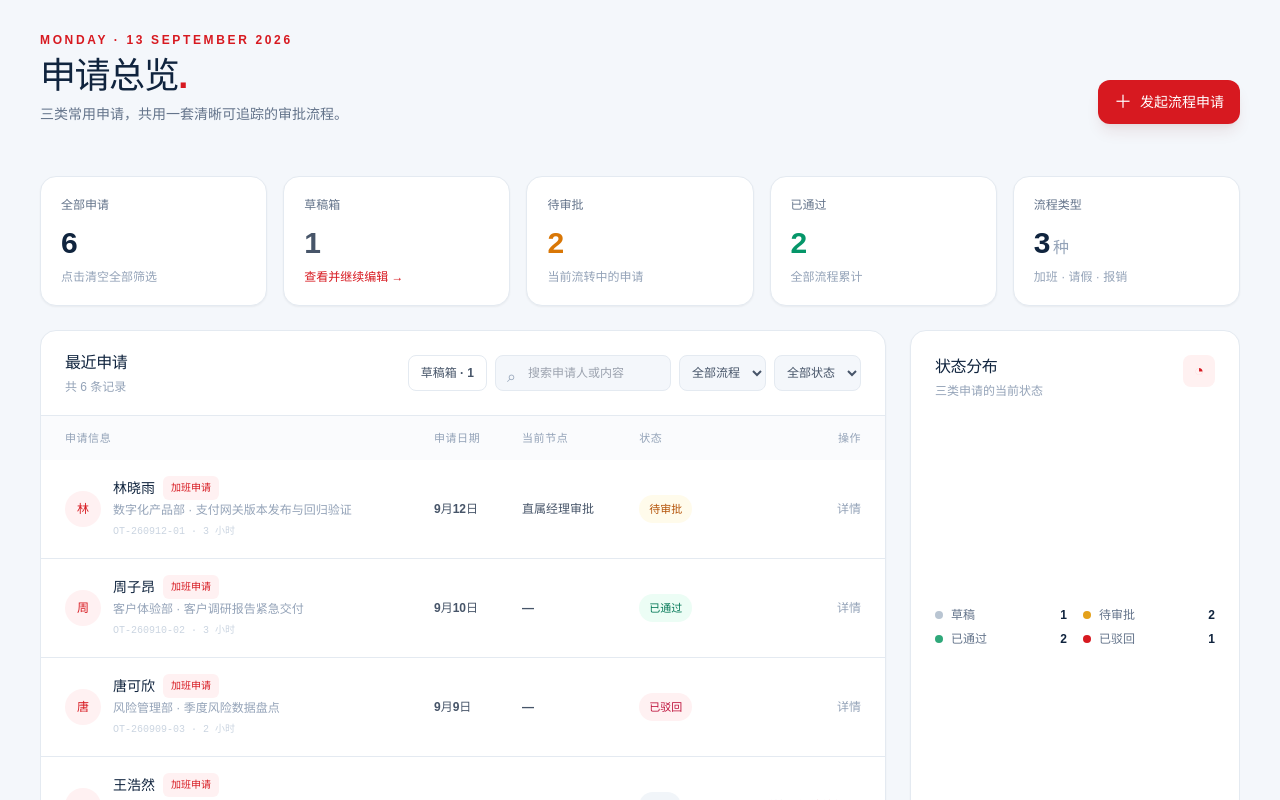
dashboard page › shows drafts and clears every filter from the total card
Click the button "草稿箱 1 查看并继续编辑 →": (397, 241) [283,176,510,306]
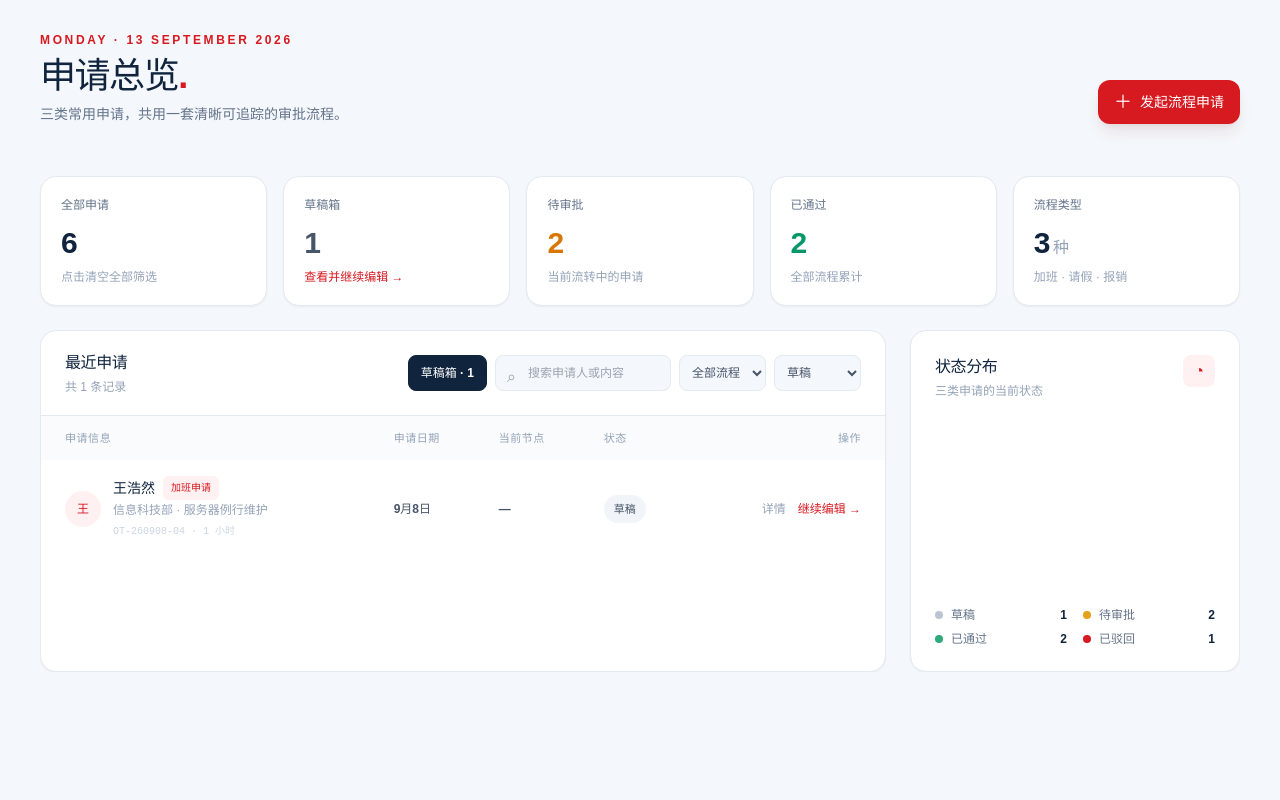
In the field with placeholder "搜索申请人或内容": (583, 373) [495,355,671,391], type "王浩然"
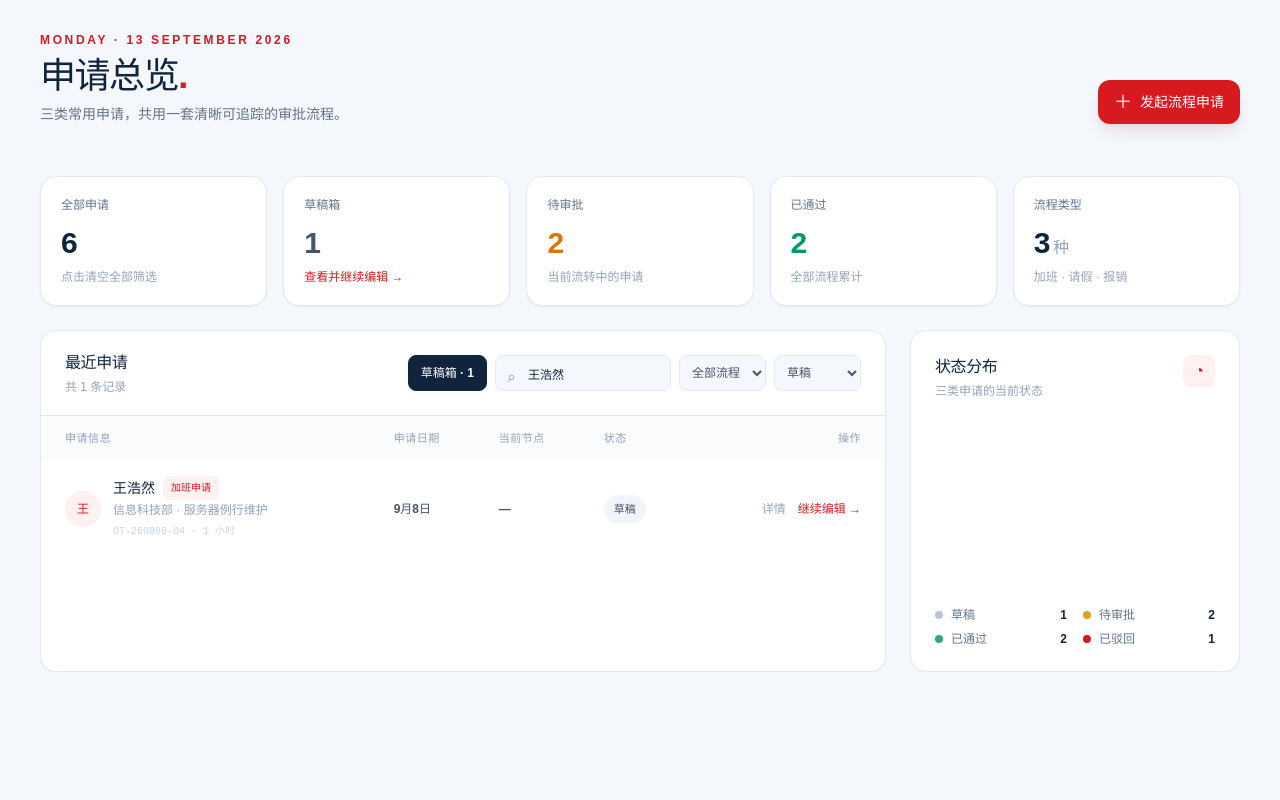
Now the text "共 1 条记录" is shown, box [65,379,127,395]
Click the button "全部申请 6 点击清空全部筛选": (154, 241) [40,176,267,306]
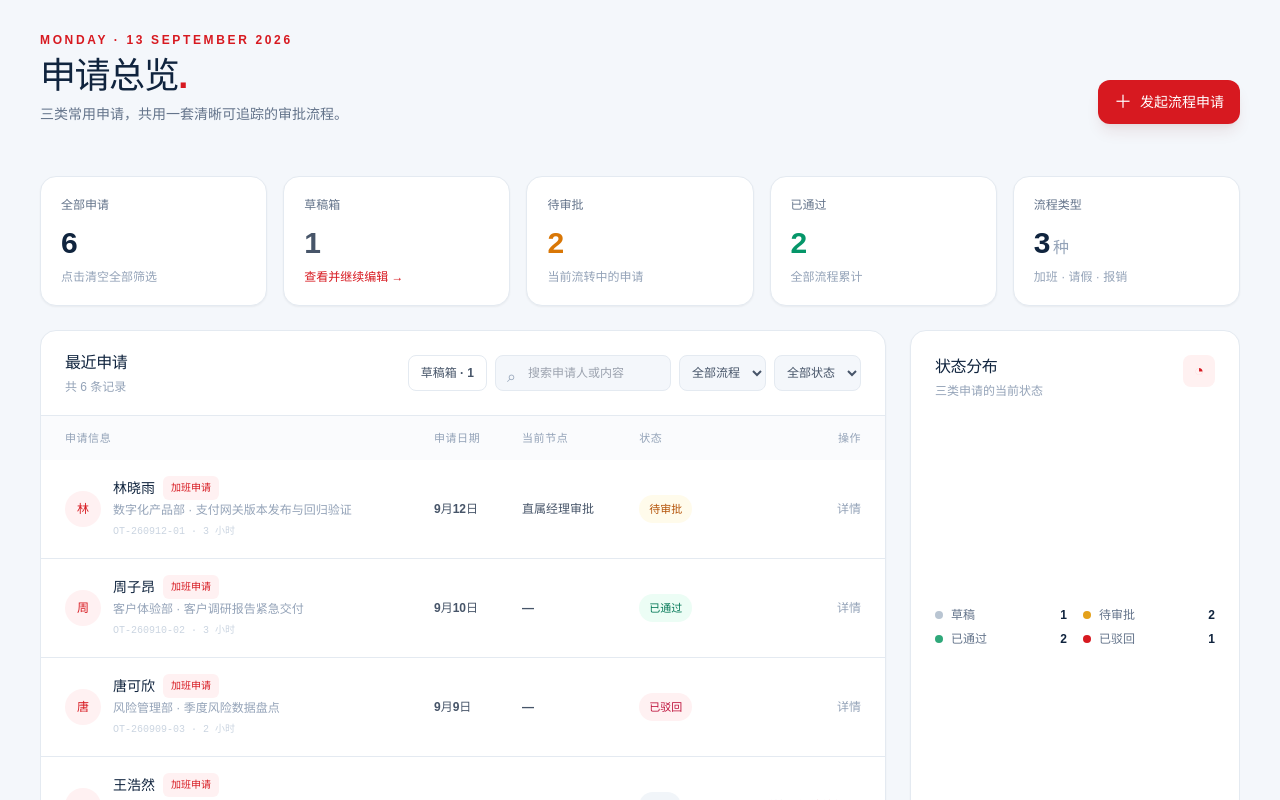
Now the field with placeholder "搜索申请人或内容" is empty, box [495,355,671,391]
